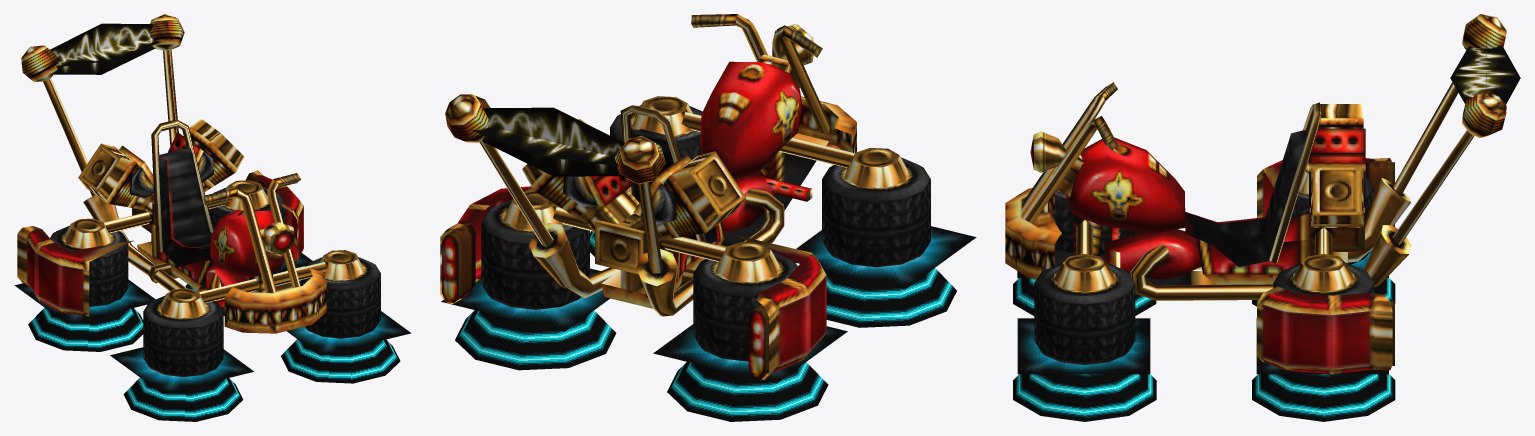
Rendered from Team Cortex Anti-Gravity Kart.obj.
3 views of the same model, side by side, from view 1: azimuth 30°, elevation 25°; view 2: azimuth 150°, elevation 25°; view 3: azimuth 270°, elevation 25° (orthographic). The views are drawn at different scales.
Parts seen in each view (by area): view 1: TeamCortexKart_Anti_Gravity, Anti_Gravity_2, Anti_Gravity_1, Anti_Gravity_3; view 2: TeamCortexKart_Anti_Gravity, Anti_Gravity_2, Anti_Gravity_1, Anti_Gravity_3; view 3: TeamCortexKart_Anti_Gravity, Anti_Gravity_2, Anti_Gravity_1, Anti_Gravity_3.
Boxes of the visible parts, x1,y1,x2,y2 form: TeamCortexKart_Anti_Gravity: [17, 14, 380, 376]; Anti_Gravity_2: [28, 270, 400, 421]; Anti_Gravity_1: [14, 253, 410, 393]; Anti_Gravity_3: [50, 23, 161, 74]; TeamCortexKart_Anti_Gravity: [440, 14, 930, 380]; Anti_Gravity_2: [455, 231, 956, 421]; Anti_Gravity_1: [441, 226, 976, 383]; Anti_Gravity_3: [471, 107, 624, 176]; TeamCortexKart_Anti_Gravity: [1005, 14, 1506, 373]; Anti_Gravity_2: [1013, 278, 1395, 421]; Anti_Gravity_1: [1017, 231, 1388, 374]; Anti_Gravity_3: [1450, 38, 1520, 104].
Bounding box in the file's own units: 26.58 × 22.98 × 36.24.
Materials: 4 (4 with a texture image).
